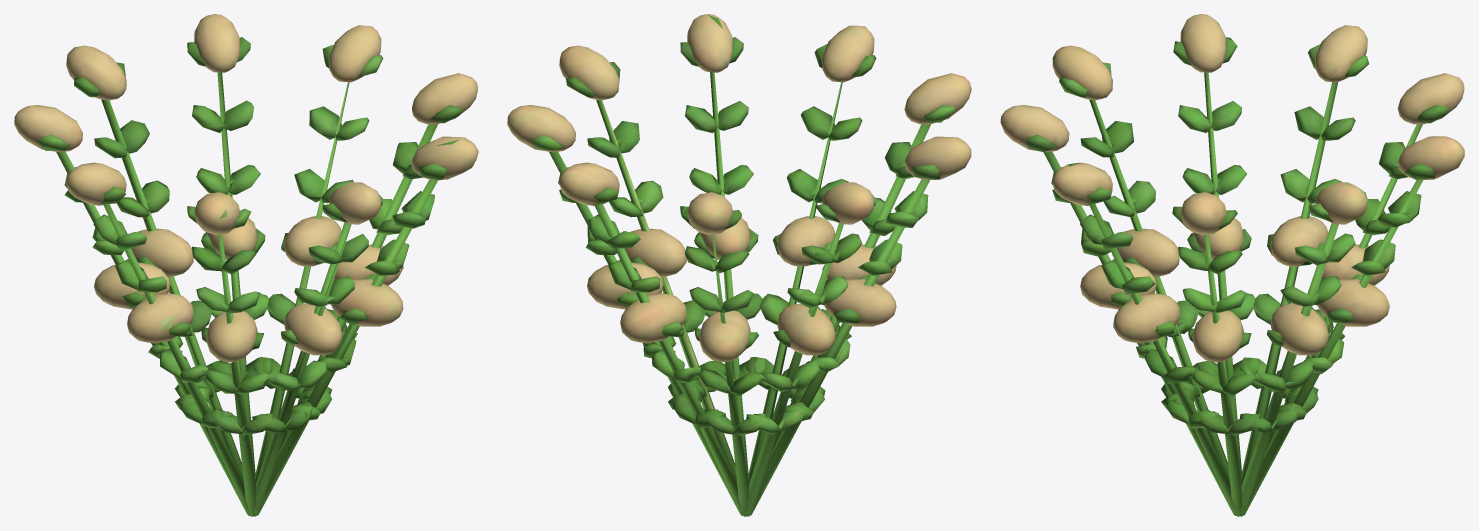
Rendered from crop_chickpea.glb.
3 renders of one model, left to right at view 1: azimuth 30°, elevation 25°; view 2: azimuth 150°, elevation 25°; view 3: azimuth 270°, elevation 25°, orthographic.
Visible parts, largest first — view 1: crop_chickpea, fruit; view 2: crop_chickpea, fruit; view 3: crop_chickpea, fruit.
Boxes of the visible parts, bbox=[...] form: crop_chickpea: bbox=[39, 37, 462, 516]; fruit: bbox=[14, 14, 478, 362]; crop_chickpea: bbox=[532, 37, 955, 516]; fruit: bbox=[507, 14, 971, 362]; crop_chickpea: bbox=[1026, 37, 1448, 516]; fruit: bbox=[1000, 14, 1464, 362].
Bounding box in the file's own units: 0.2206 × 0.2106 × 0.2173.
1 material, 1 textured.
